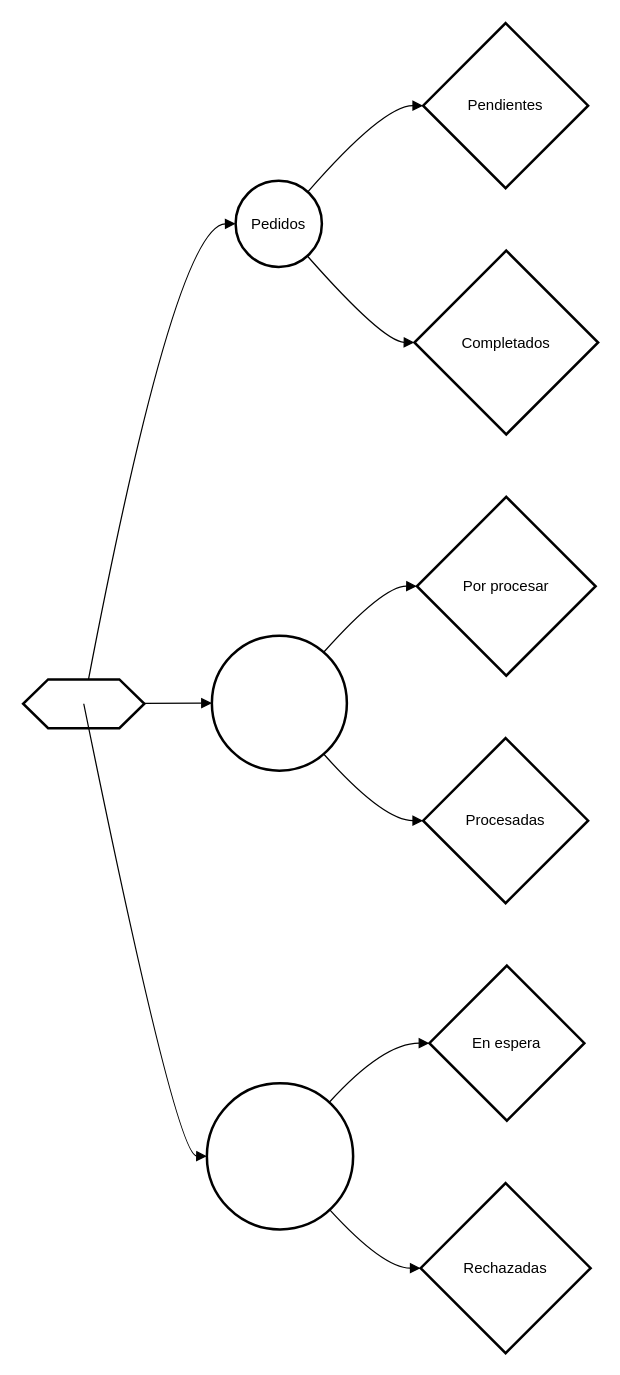
The diagram is 620 pixels wide and 1375 high, and some of its shapes have lost their labels. The shapes that lost their labels are listed below. From the top down, each one's box as (x1, y1, x2, y2) in pixels, then its label:
(21, 678, 145, 729): Entradas
(210, 634, 348, 771): Devoluciones
(205, 1081, 354, 1230): Cancelaciones
